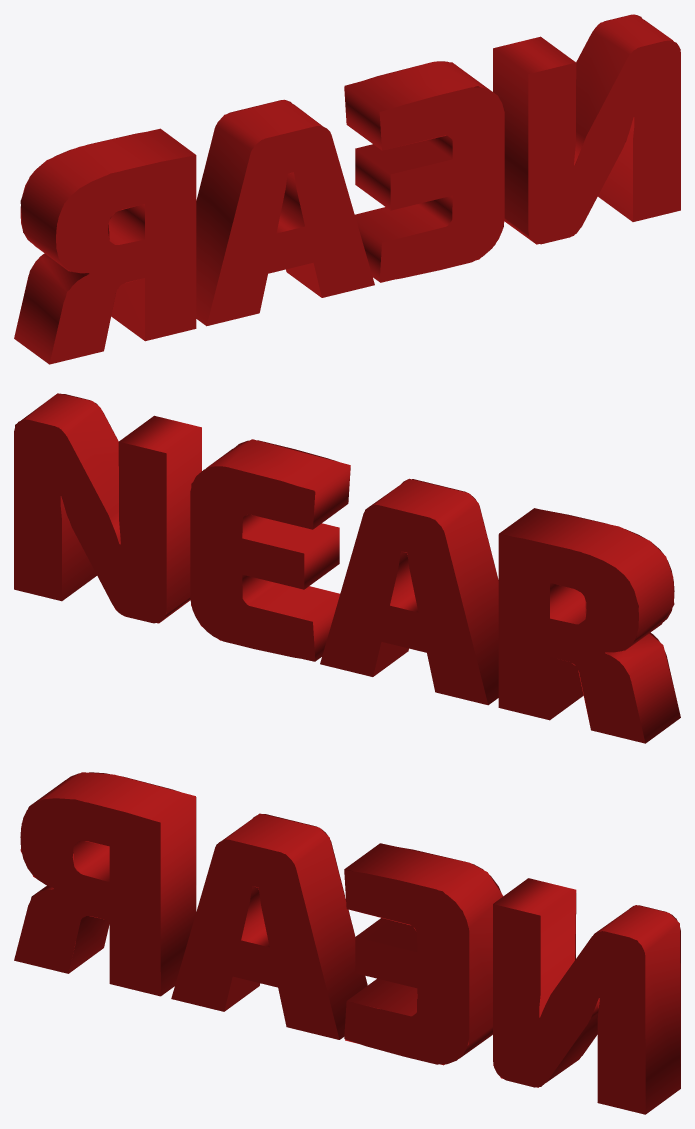
File: near.fbx
3 views of the same model, one above another, from view 1: azimuth 30°, elevation 25°; view 2: azimuth 150°, elevation 25°; view 3: azimuth 330°, elevation 25° (orthographic).
Visible parts, largest first — view 1: Text; view 2: Text; view 3: Text.
Part boxes in pixels (bbox=[...]): Text: bbox=[14, 14, 680, 364]; Text: bbox=[14, 393, 680, 743]; Text: bbox=[14, 772, 680, 1114].
Bounding box in the file's own units: 8.23 × 2.21 × 0.8.
